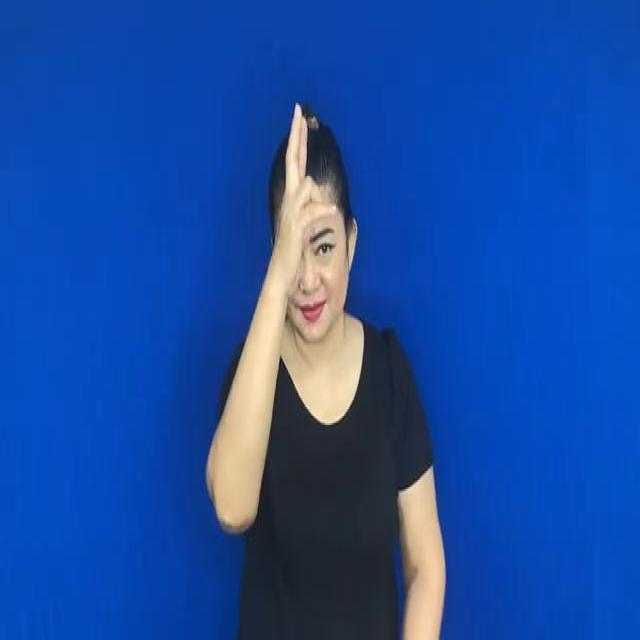chicken: (273, 93, 340, 290)
